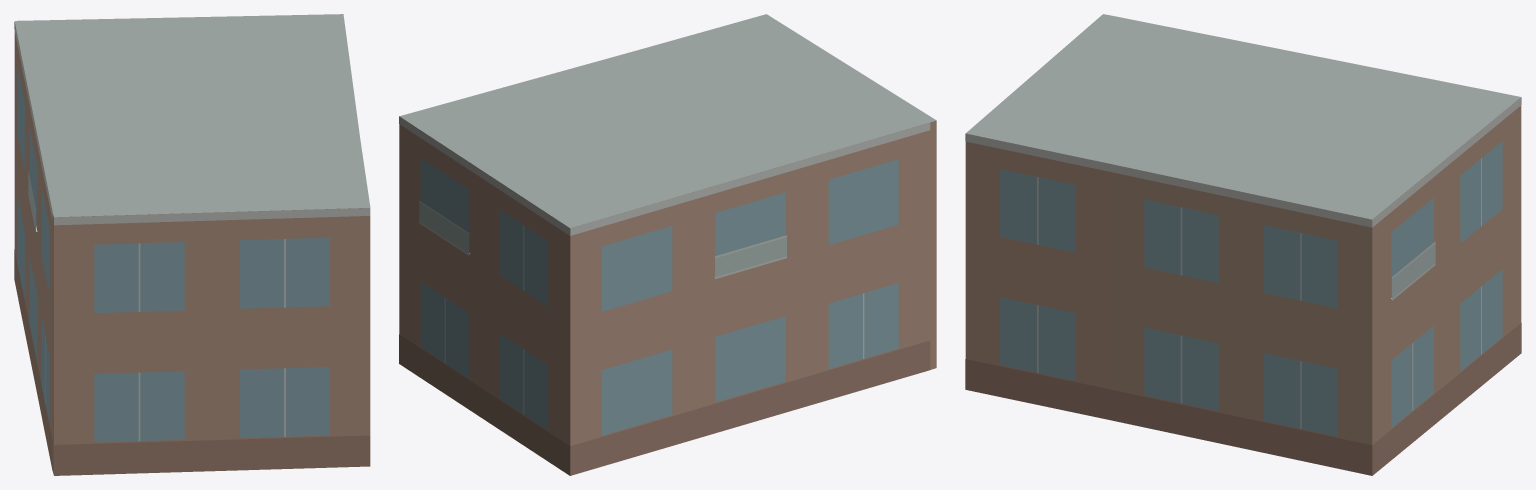
The model's file is survey-upis-32633239.glb.
3 views of the same model, side by side, from view 1: azimuth 30°, elevation 25°; view 2: azimuth 150°, elevation 25°; view 3: azimuth 270°, elevation 25° (orthographic). The views are drawn at different scales.
Parts seen in each view (by area): view 1: survey-upis-32633239.tmp; view 2: survey-upis-32633239.tmp; view 3: survey-upis-32633239.tmp.
Part boxes in pixels (x1,y1,x2,y2): survey-upis-32633239.tmp: [14, 14, 370, 475]; survey-upis-32633239.tmp: [399, 14, 936, 475]; survey-upis-32633239.tmp: [965, 14, 1521, 475].
Bounding box in the file's own units: 13.43 × 7.8 × 15.35.
